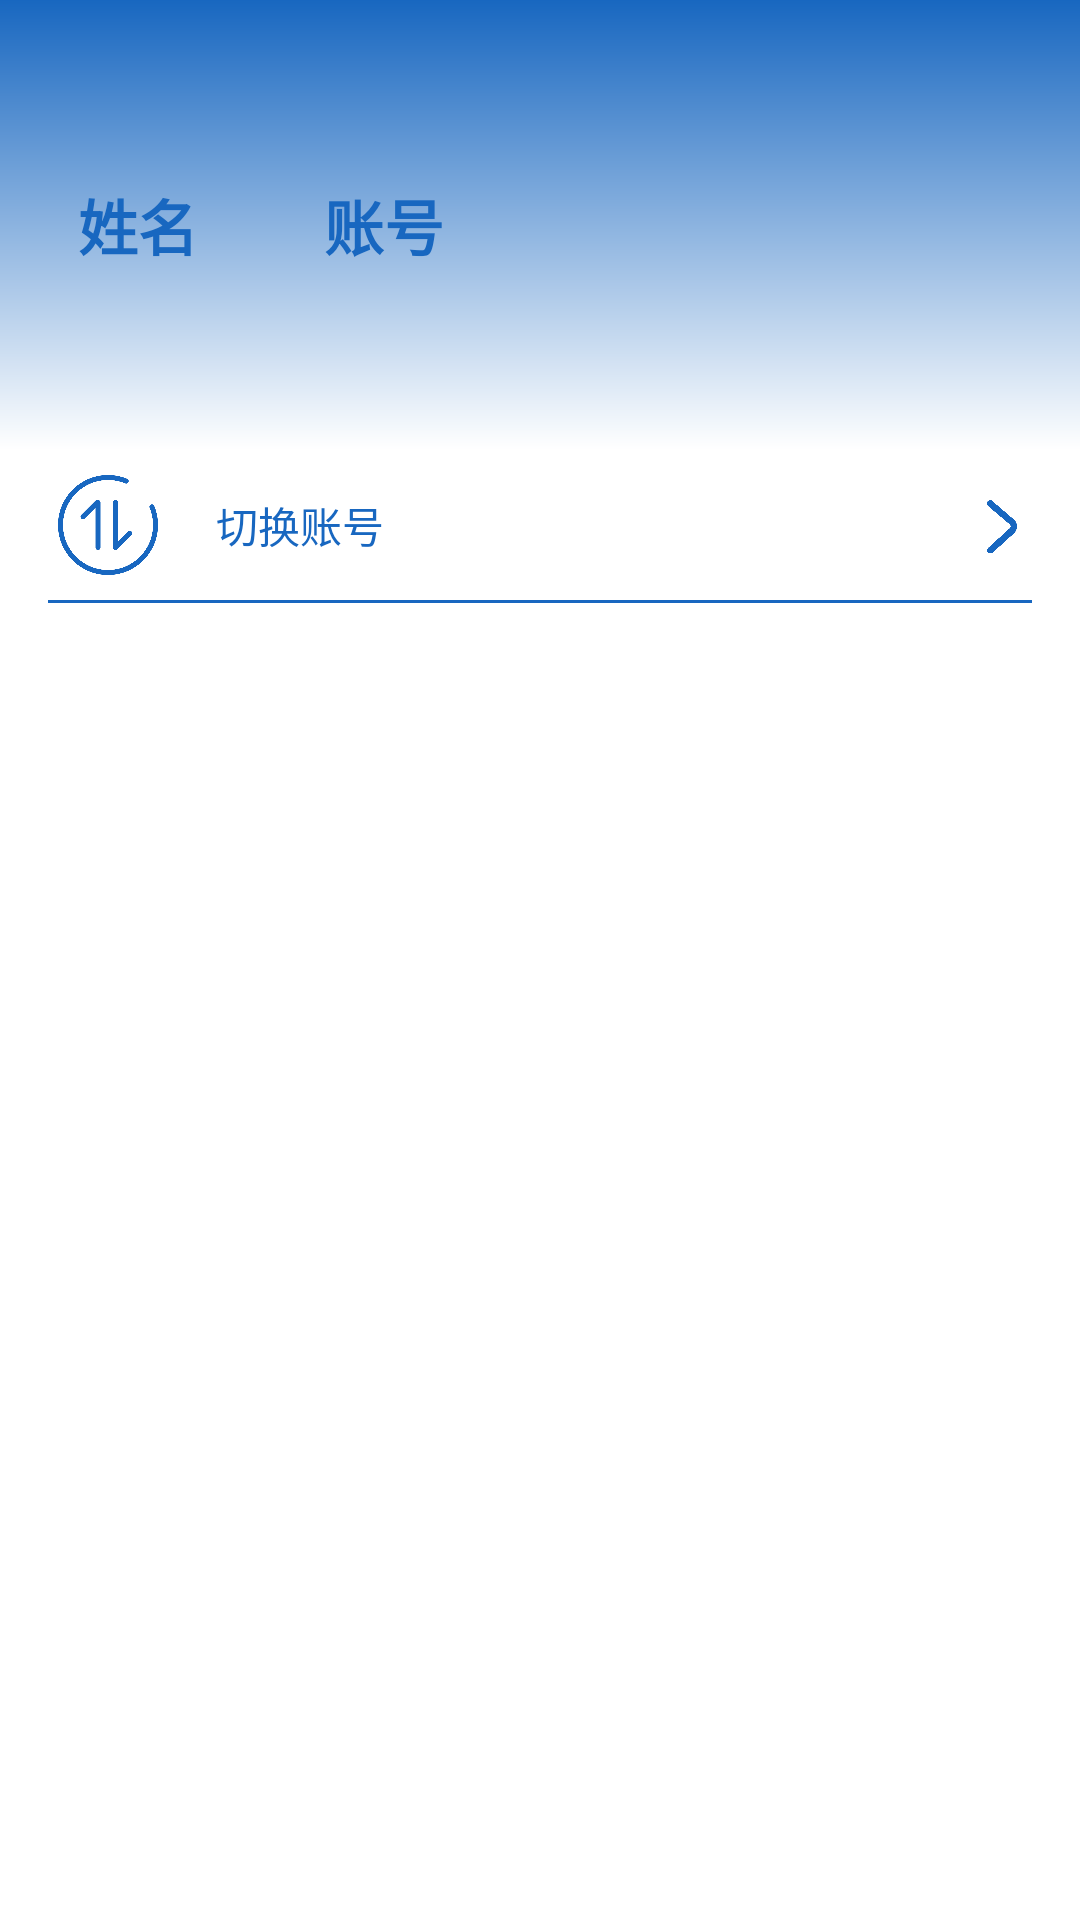

Screen size 1080px x 1920px. Icon name, then its center in pixels as (x,y):
arrow right: (1002,526)
switch: (108,525)
